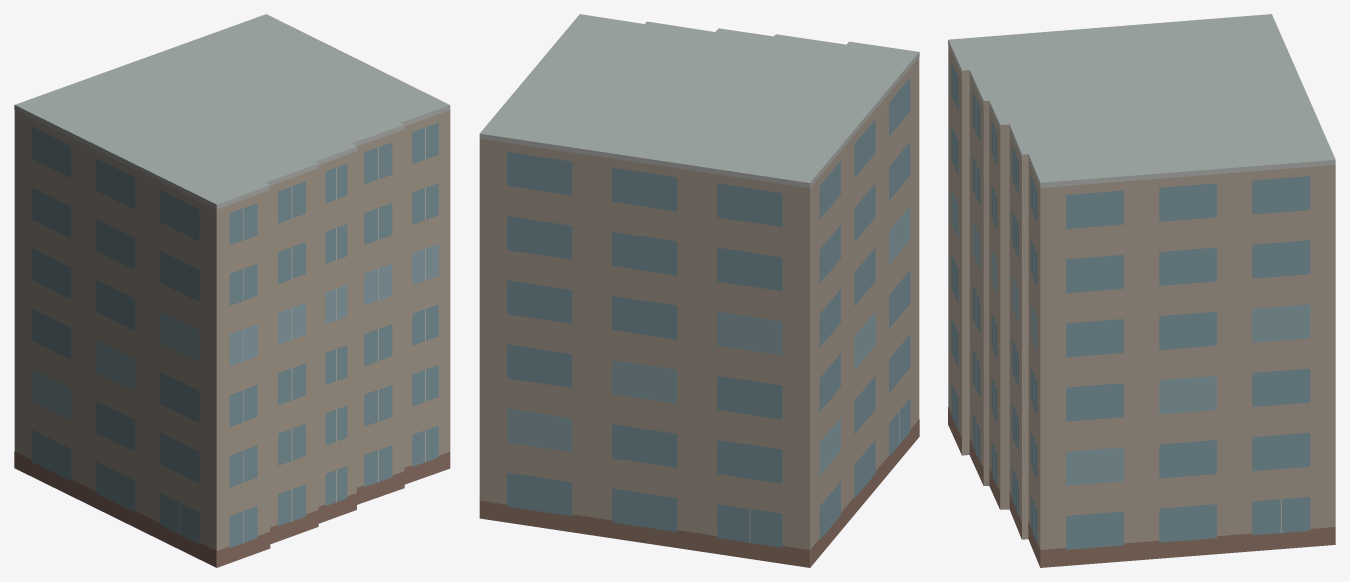
The model's file is survey-upis-33002320.glb.
3 views of the same model, side by side, from view 1: azimuth 30°, elevation 25°; view 2: azimuth 150°, elevation 25°; view 3: azimuth 270°, elevation 25° (orthographic). The views are drawn at different scales.
Visible parts, largest first — view 1: survey-upis-33002320.tmp; view 2: survey-upis-33002320.tmp; view 3: survey-upis-33002320.tmp.
Boxes of the visible parts, bbox=[...] form: survey-upis-33002320.tmp: bbox=[14, 14, 450, 567]; survey-upis-33002320.tmp: bbox=[479, 14, 919, 567]; survey-upis-33002320.tmp: bbox=[948, 14, 1335, 567].
Size of the model in its own units: 17.32 by 18.4 by 16.8.
